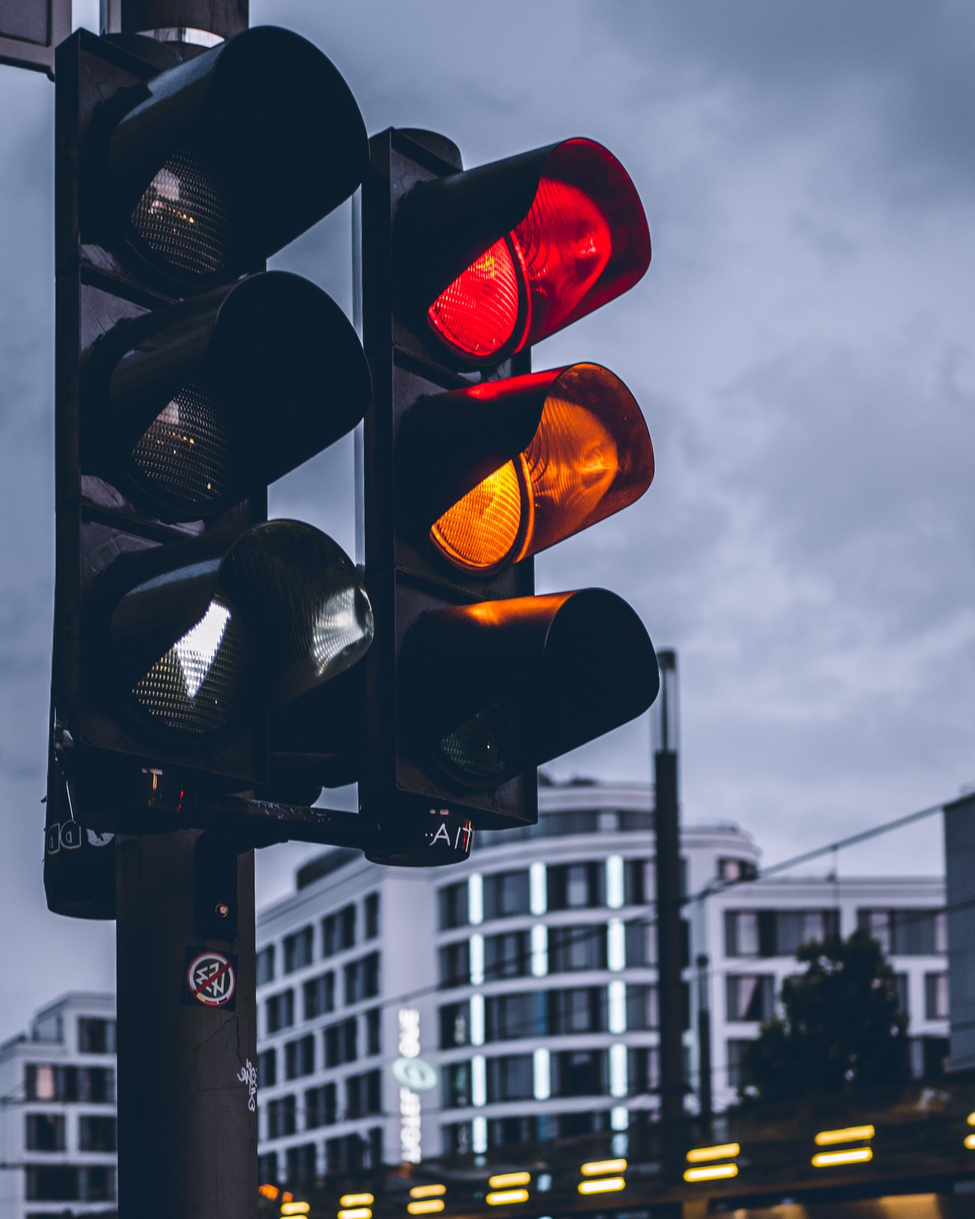red: (361, 126, 713, 822)
